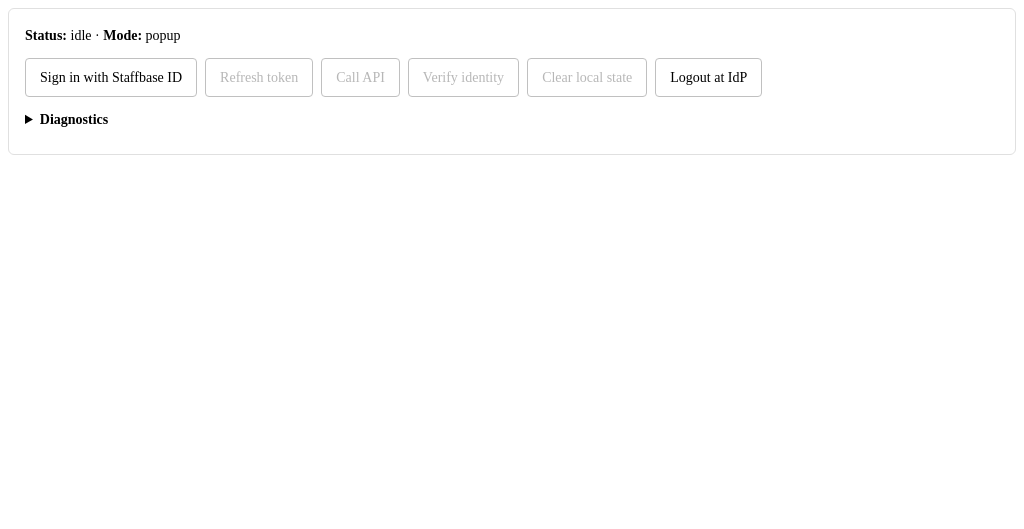
Test: OauthClient › collects the code by reading the popup's location, with no script running in the popup
Step 1. Click the button "Sign in with Staffbase ID" → {"x": 111, "y": 78}, box [25, 58, 197, 97]
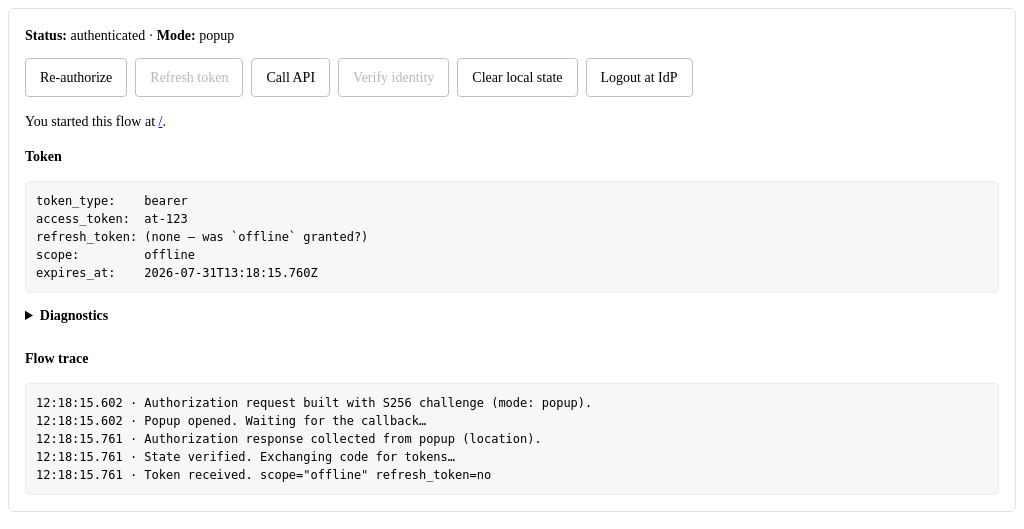
Expected: the text "access_token:" is shown, [36, 194, 368, 280]
